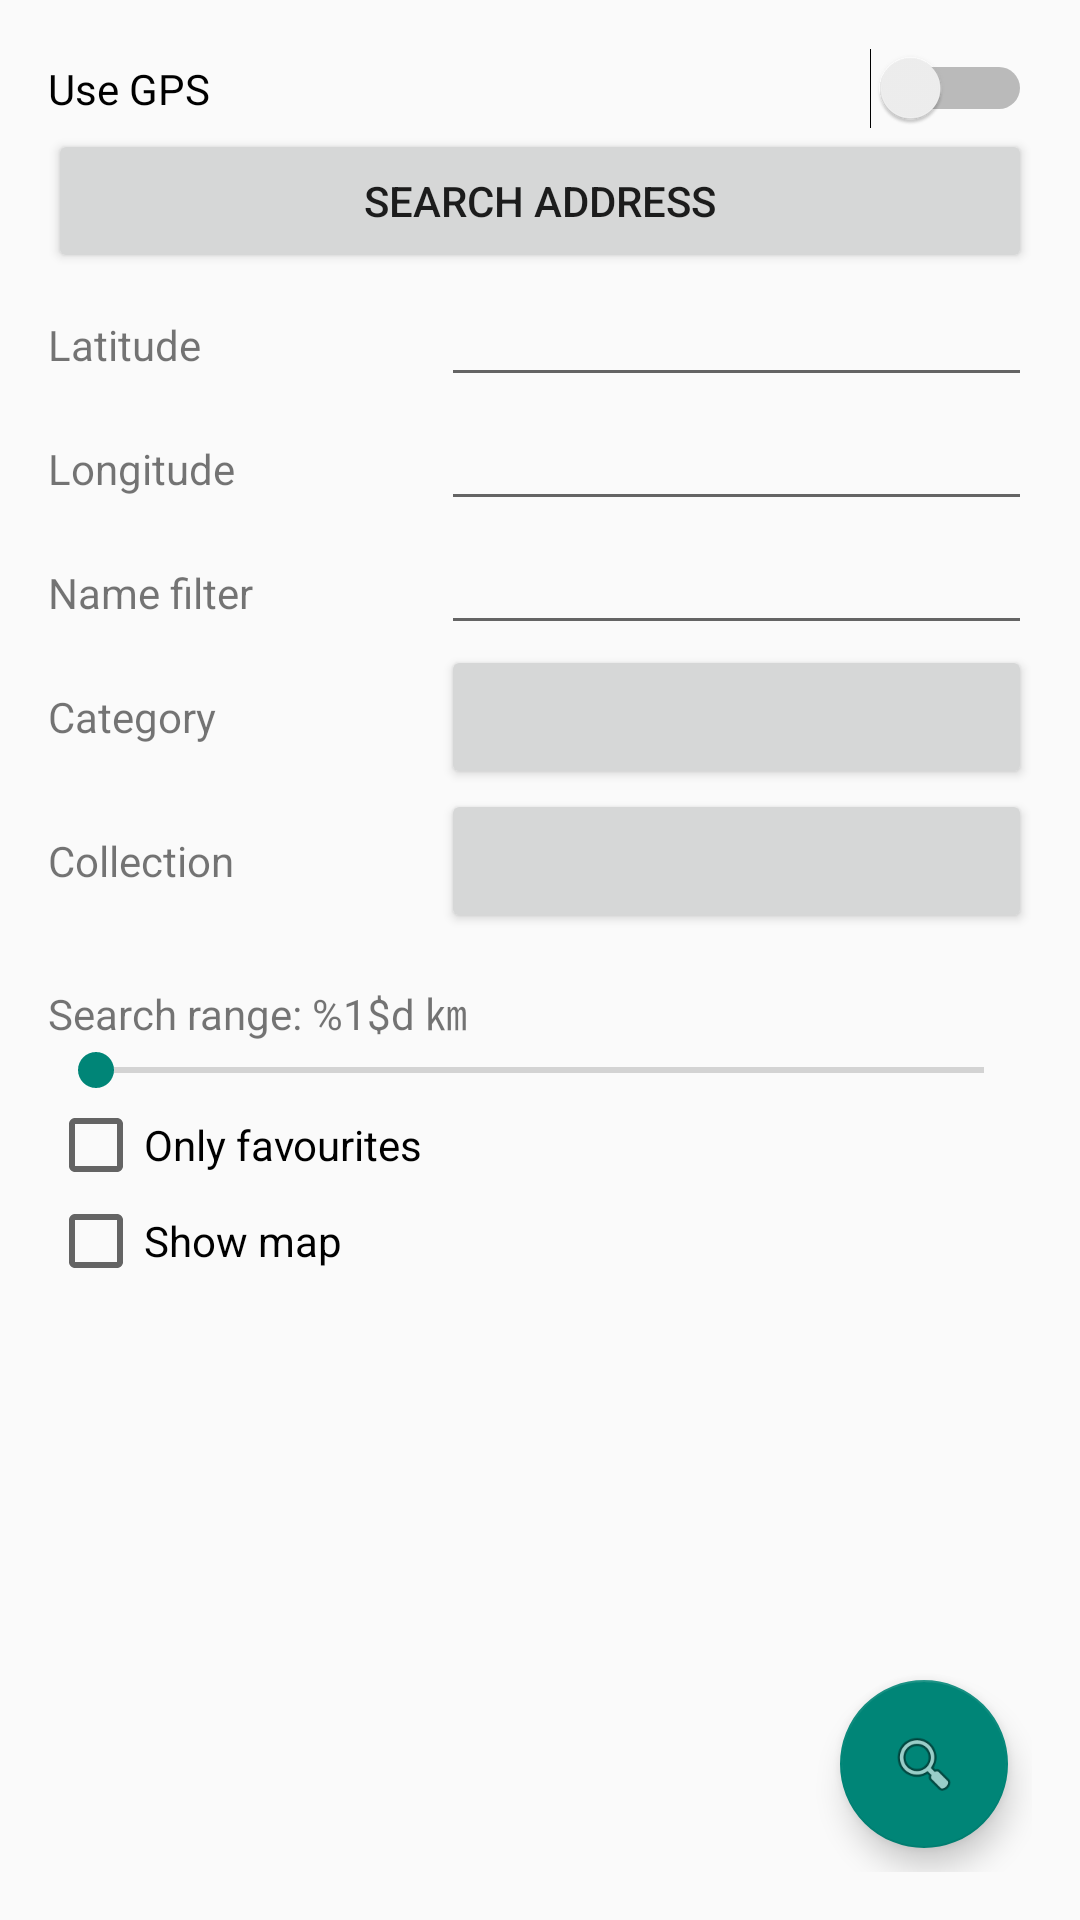

Named icons in this screenshot (1080 × 1920) and their bounding boxes, (x1, y1, x2, y2):
search: (840, 1680, 1008, 1848)
